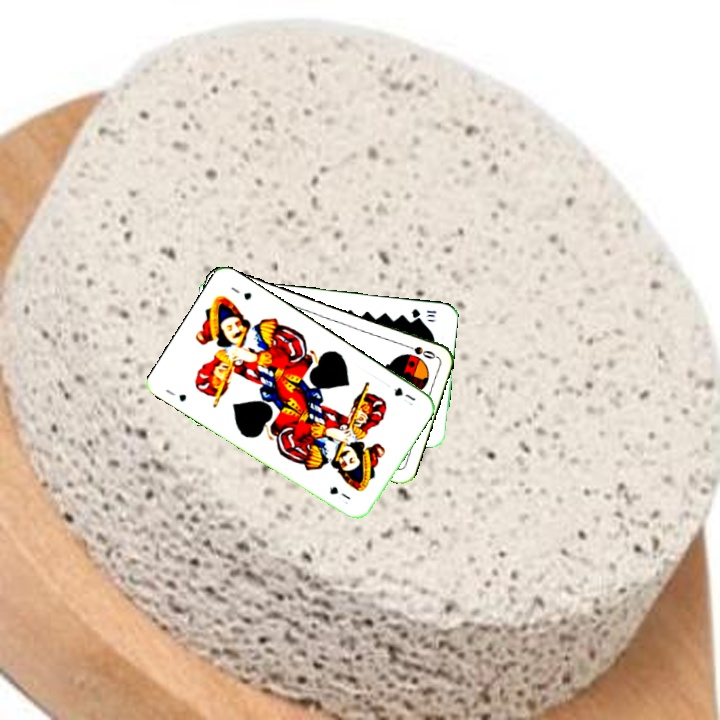G10: (408, 305, 439, 321)
GU: (389, 383, 418, 403), (161, 385, 189, 405)
SO: (399, 340, 438, 362)
